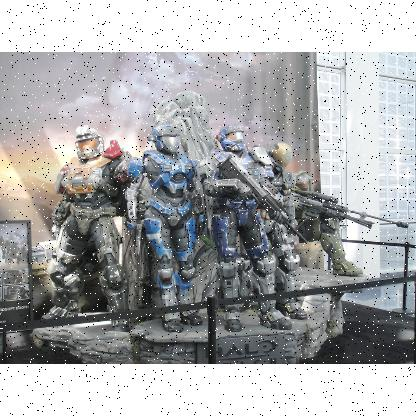gun: (218, 156, 306, 242), (286, 186, 410, 232)
